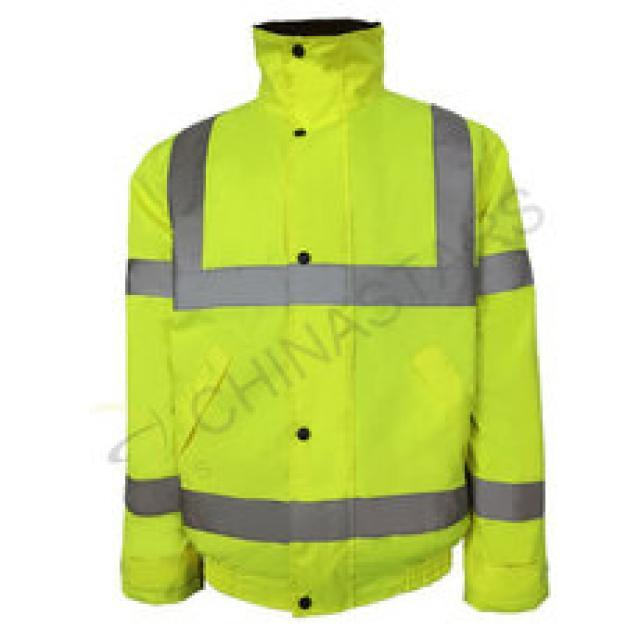reflective_jacket: (80, 44, 587, 639)
